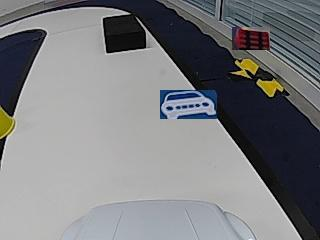block: (103, 14, 146, 52)
cone: (0, 107, 16, 139)
